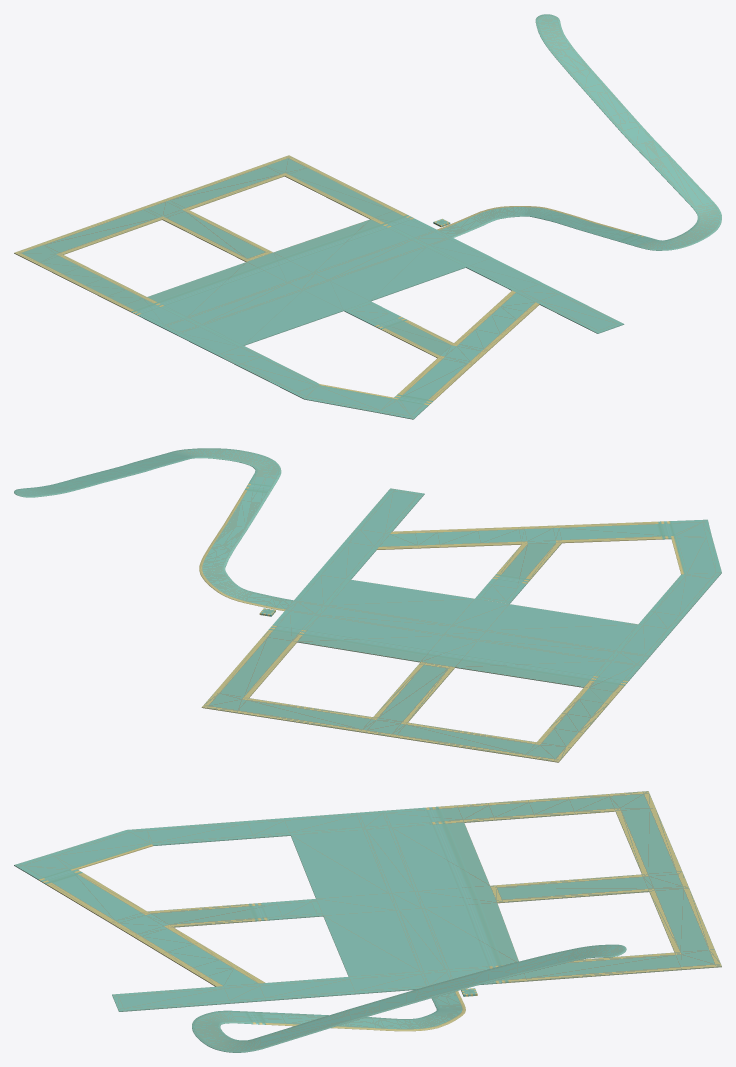
File: objects_un_t05tile01.gltf
3 views of the same model, one above another, from view 1: azimuth 30°, elevation 25°; view 2: azimuth 150°, elevation 25°; view 3: azimuth 270°, elevation 25° (orthographic). The views are drawn at different scales.
Parts seen in each view (by area): view 1: um_objects_un_t05tile01_model_lod0Shape:objects_un_t05tile01 (×2), um_objects_un_t05tile01_model_lod1Shape:objects_un_t05tile01 (×2); view 2: um_objects_un_t05tile01_model_lod0Shape:objects_un_t05tile01 (×2), um_objects_un_t05tile01_model_lod1Shape:objects_un_t05tile01 (×2); view 3: um_objects_un_t05tile01_model_lod0Shape:objects_un_t05tile01 (×2), um_objects_un_t05tile01_model_lod1Shape:objects_un_t05tile01 (×2).
Part boxes in pixels (x1,y1,x2,y2): um_objects_un_t05tile01_model_lod0Shape:objects_un_t05tile01 (×2): [14, 14, 721, 419]; um_objects_un_t05tile01_model_lod1Shape:objects_un_t05tile01 (×2): [447, 15, 721, 250]; um_objects_un_t05tile01_model_lod0Shape:objects_un_t05tile01 (×2): [14, 448, 721, 762]; um_objects_un_t05tile01_model_lod1Shape:objects_un_t05tile01 (×2): [17, 448, 281, 607]; um_objects_un_t05tile01_model_lod0Shape:objects_un_t05tile01 (×2): [14, 791, 721, 1052]; um_objects_un_t05tile01_model_lod1Shape:objects_un_t05tile01 (×2): [192, 944, 623, 1052].
Size of the model in its own units: 149 by 31.83 by 146.
2 materials, 2 textured.
